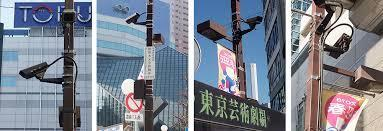tutu: (18, 60, 51, 83), (244, 12, 268, 31), (123, 12, 141, 27)
